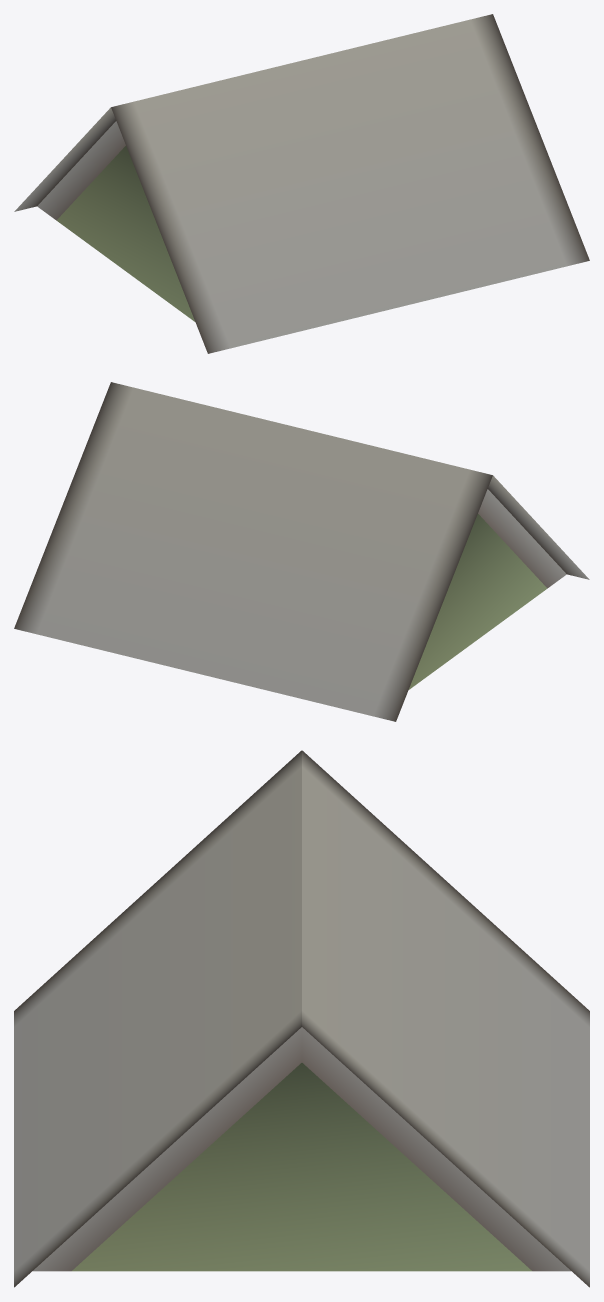
The model's file is wall-b-roof-detailed.glb.
The picture shows the model from 3 angles, top to bottom: view 1: azimuth 30°, elevation 25°; view 2: azimuth 150°, elevation 25°; view 3: azimuth 270°, elevation 25°; orthographic projection. The views are drawn at different scales.
Parts seen in each view (by area): view 1: wall-b-roof-detailed; view 2: wall-b-roof-detailed; view 3: wall-b-roof-detailed.
Part boxes in pixels (x1=…): wall-b-roof-detailed: x1=14, y1=14, x2=589, y2=353; wall-b-roof-detailed: x1=14, y1=382, x2=589, y2=721; wall-b-roof-detailed: x1=14, y1=750, x2=589, y2=1287.
Size of the model in its own units: 1.14 by 0.5 by 1.
